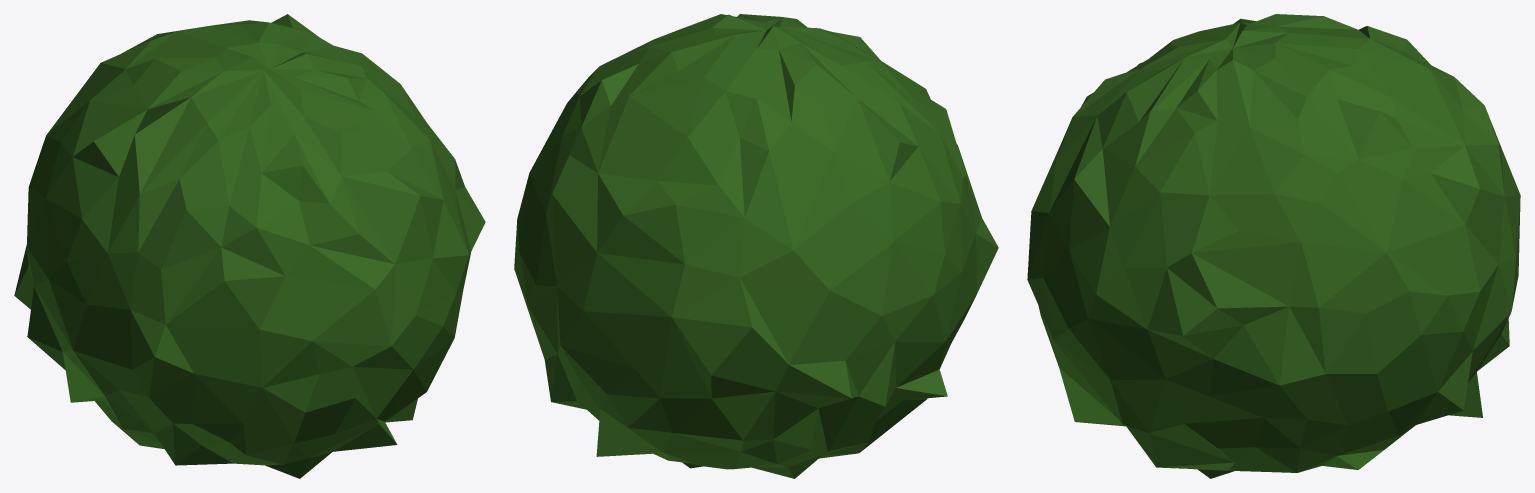
File: bush.obj
The picture shows the model from 3 angles, left to right: view 1: azimuth 30°, elevation 25°; view 2: azimuth 150°, elevation 25°; view 3: azimuth 270°, elevation 25°; orthographic projection. The views are drawn at different scales.
Visible parts, largest first — view 1: bush; view 2: bush; view 3: bush.
Boxes of the visible parts, left/top/right/bottom form: bush: left=14, top=14, right=485, bottom=478; bush: left=514, top=14, right=998, bottom=478; bush: left=1027, top=14, right=1520, bottom=478.
Size of the model in its own units: 0.3582 by 0.3662 by 0.3784.
